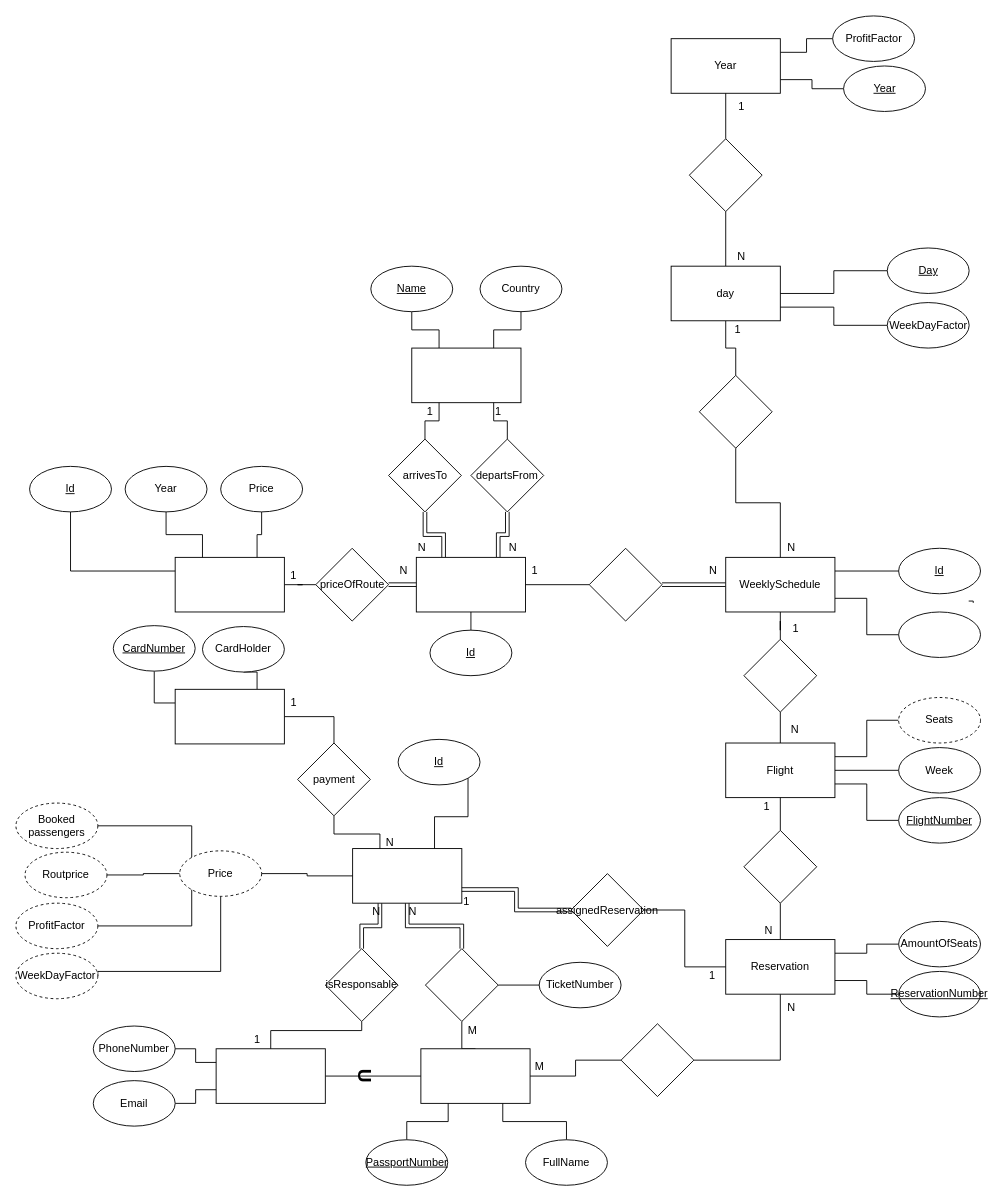
Some shapes in this 1004 by 1201 pixel diagram are drawn without their labels. Here are the shapes that lost their labels. From the top down, the box of each, then its label:
(688, 138, 762, 212): during
(411, 347, 521, 403): Airport
(698, 374, 772, 448): travelduring
(174, 556, 284, 612): RoutePrice
(415, 556, 526, 612): Route
(588, 547, 662, 621): travel
(898, 611, 981, 657): Time
(743, 638, 817, 712): Weekly
(174, 688, 284, 744): PaymentCard
(352, 848, 462, 903): Booking
(743, 829, 817, 903): reservedTo
(425, 948, 498, 1021): hasTicket
(215, 1048, 325, 1103): ContactPerson
(420, 1048, 530, 1103): Passenger
(620, 1023, 694, 1097): Reserved
